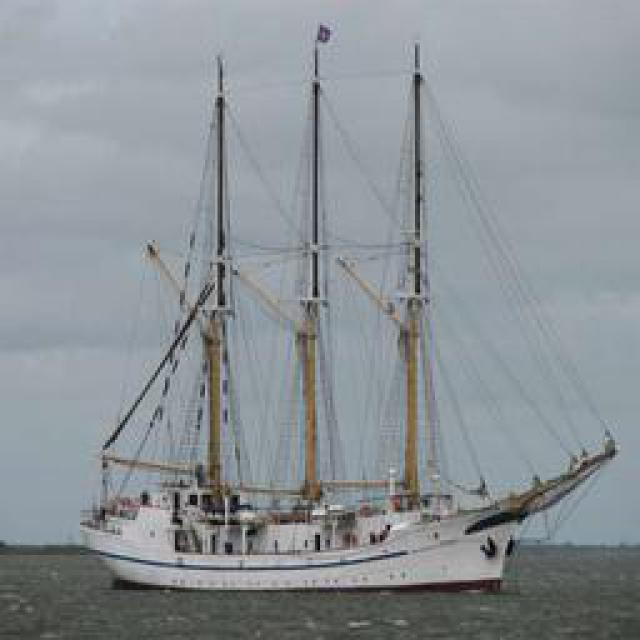Ship: (80, 41, 605, 596)
